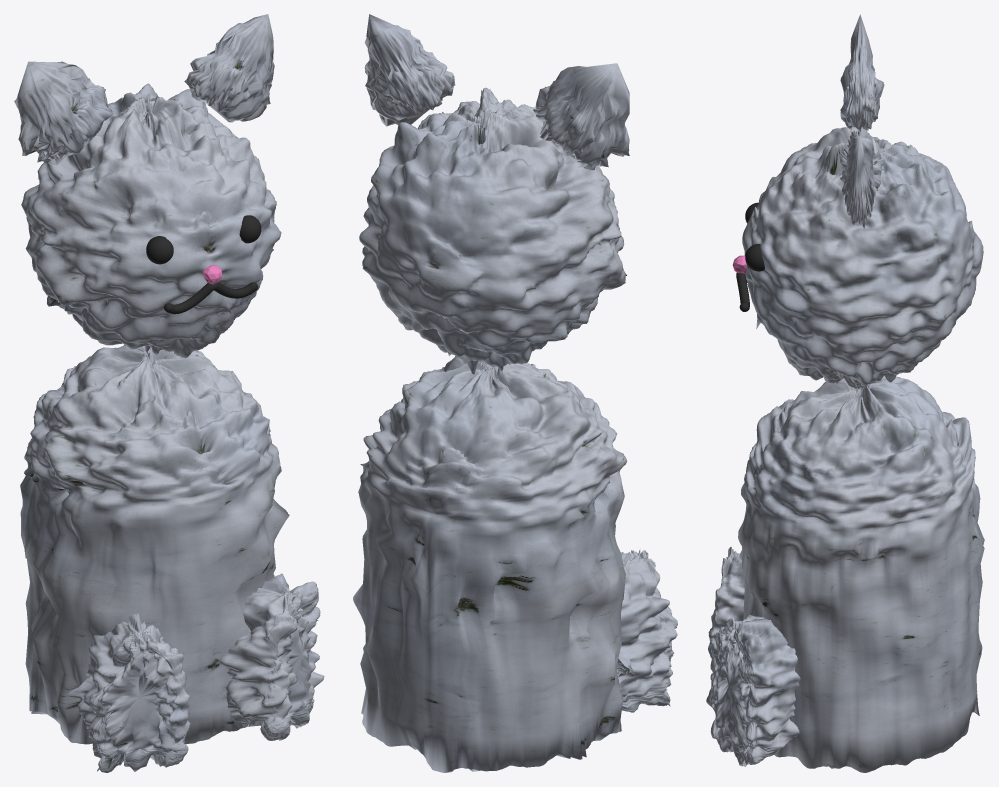
Rendered from CAT-FewKeys.glb.
3 views of the same model, side by side, from view 1: azimuth 30°, elevation 25°; view 2: azimuth 150°, elevation 25°; view 3: azimuth 270°, elevation 25° (orthographic). The views are drawn at different scales.
Visible parts, largest first — view 1: Cone.002, Cone.001; view 2: Cone.002, Cone.001; view 3: Cone.002, Cone.001.
Boxes of the visible parts, left/top/right/bottom form: Cone.002: left=20, top=345, right=324, bottom=772; Cone.001: left=14, top=14, right=281, bottom=358; Cone.002: left=353, top=356, right=677, bottom=772; Cone.001: left=359, top=14, right=629, bottom=374; Cone.002: left=706, top=375, right=984, bottom=772; Cone.001: left=732, top=14, right=983, bottom=389.
Bounding box in the file's own units: 2.45 × 6.15 × 2.37.
3 materials, 1 textured.
